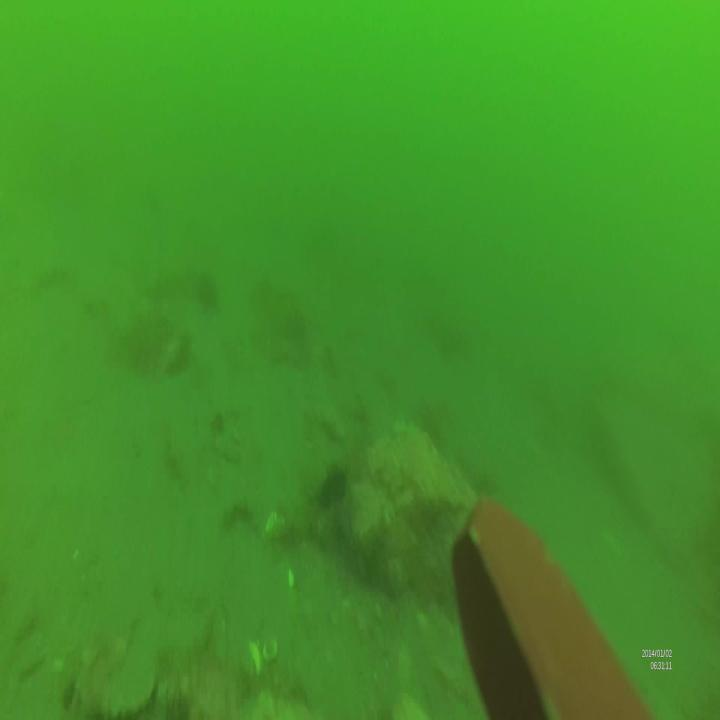echinus: (320, 463, 352, 518)
